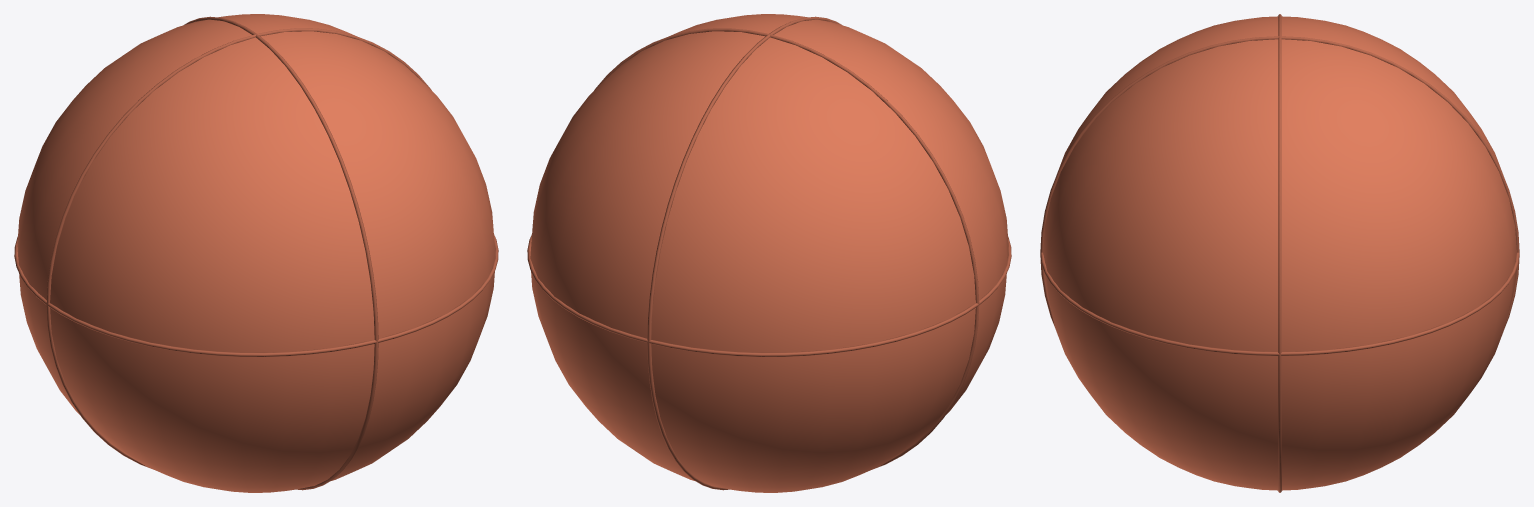
File: play-ball-coral.glb
The picture shows the model from 3 angles, left to right: view 1: azimuth 30°, elevation 25°; view 2: azimuth 150°, elevation 25°; view 3: azimuth 270°, elevation 25°; orthographic projection.
Visible parts, largest first — view 1: Ball_Surface, Ball_Subtle_Seam_1, Ball_Subtle_Seam_0, Ball_Subtle_Seam_2; view 2: Ball_Surface, Ball_Subtle_Seam_1, Ball_Subtle_Seam_0, Ball_Subtle_Seam_2; view 3: Ball_Surface, Ball_Subtle_Seam_2, Ball_Subtle_Seam_0, Ball_Subtle_Seam_1.
Part boxes in pixels (left/top/right/bottom): Ball_Surface: left=17, top=14, right=495, bottom=492; Ball_Subtle_Seam_1: left=46, top=28, right=431, bottom=468; Ball_Subtle_Seam_0: left=14, top=234, right=498, bottom=356; Ball_Subtle_Seam_2: left=184, top=16, right=378, bottom=490; Ball_Surface: left=530, top=14, right=1008, bottom=492; Ball_Subtle_Seam_1: left=594, top=28, right=979, bottom=468; Ball_Subtle_Seam_0: left=527, top=234, right=1011, bottom=356; Ball_Subtle_Seam_2: left=647, top=16, right=841, bottom=490; Ball_Surface: left=1043, top=16, right=1516, bottom=490; Ball_Subtle_Seam_2: left=1040, top=36, right=1519, bottom=326; Ball_Subtle_Seam_0: left=1040, top=252, right=1519, bottom=355; Ball_Subtle_Seam_1: left=1278, top=14, right=1281, bottom=492.
Bounding box in the file's own units: 0.1818 × 0.1818 × 0.1818.
